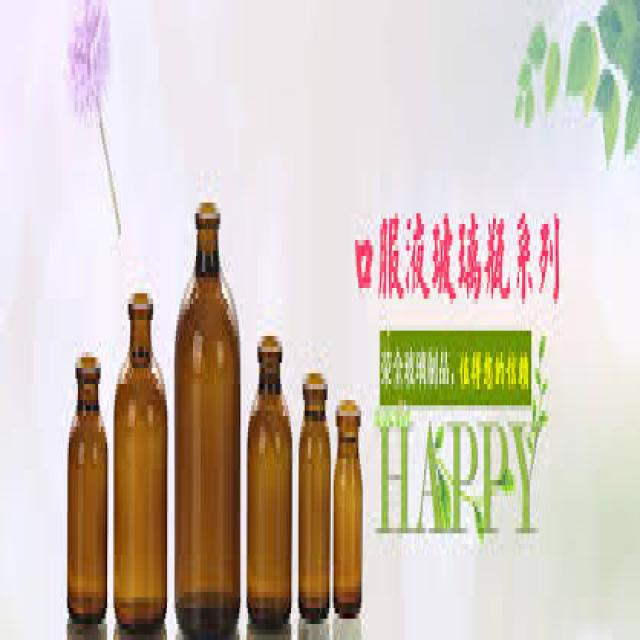glass: (173, 198, 239, 630), (114, 288, 166, 629), (247, 325, 290, 619), (66, 352, 106, 619), (297, 368, 328, 619), (331, 395, 361, 613)
